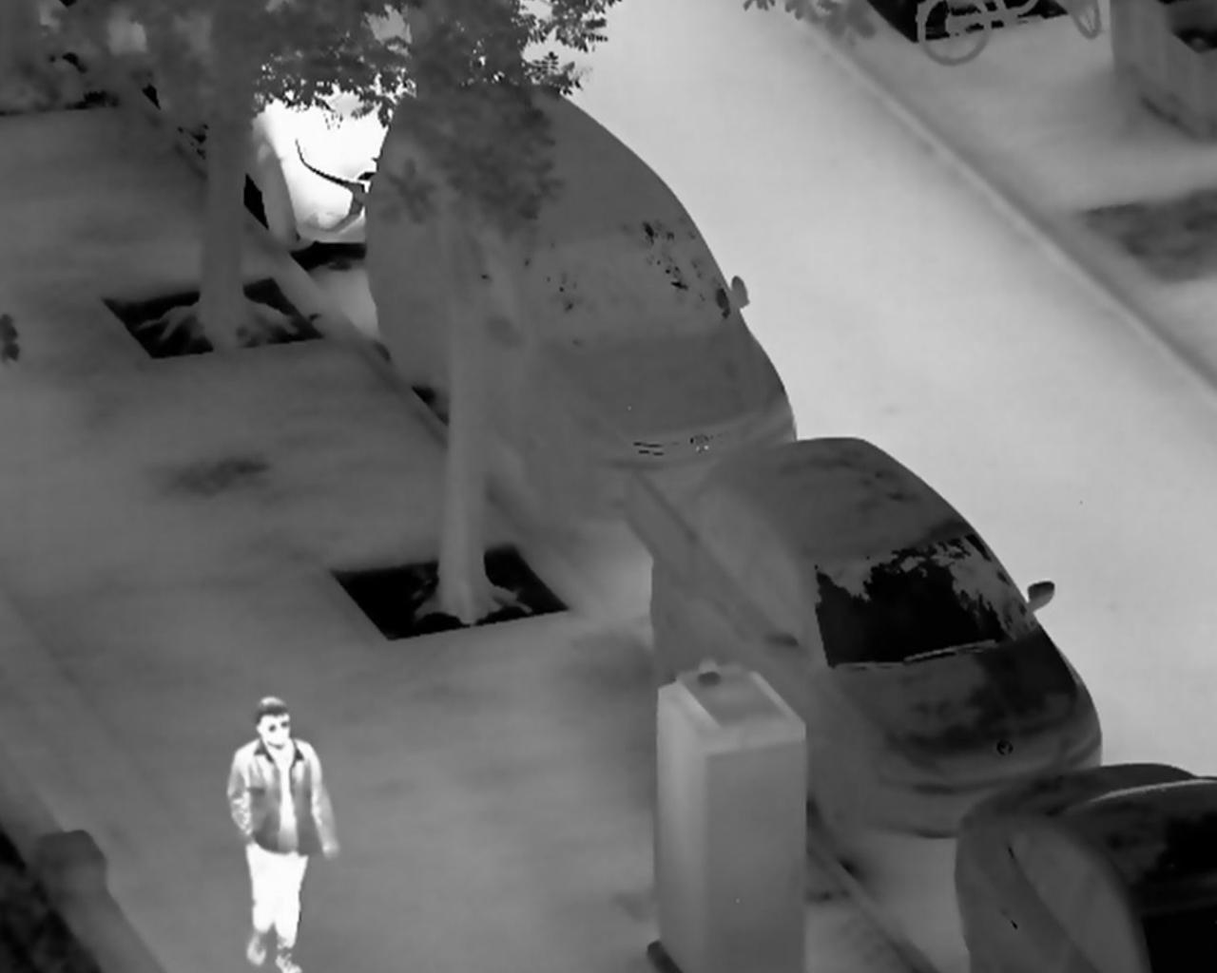person: (225, 693, 340, 973)
